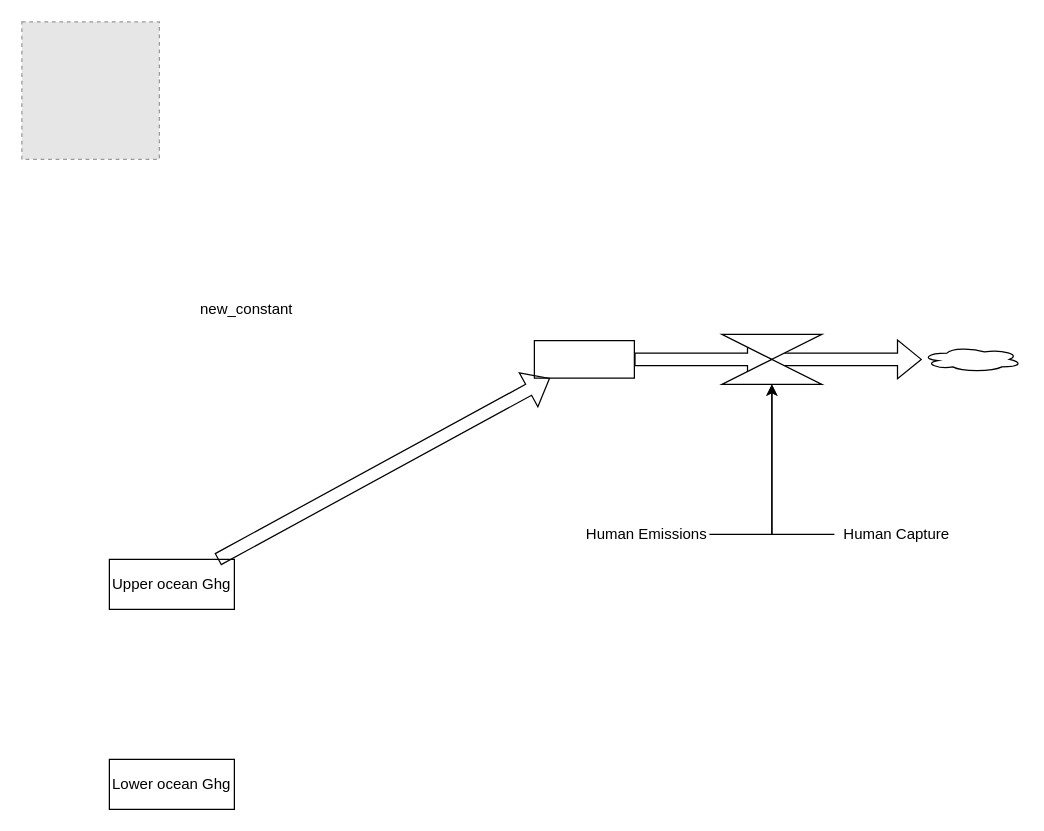
This 1044x831 diagram has some shape labels left out. Grey dashed boxes stand in for pictures. The shapes that lost their labels are listed below. From the top down, each one's centre as x and y in pixels, then its label:
At point (583, 358): "Athmospehic Ghg".
At point (771, 358): "Human total Emissions".
